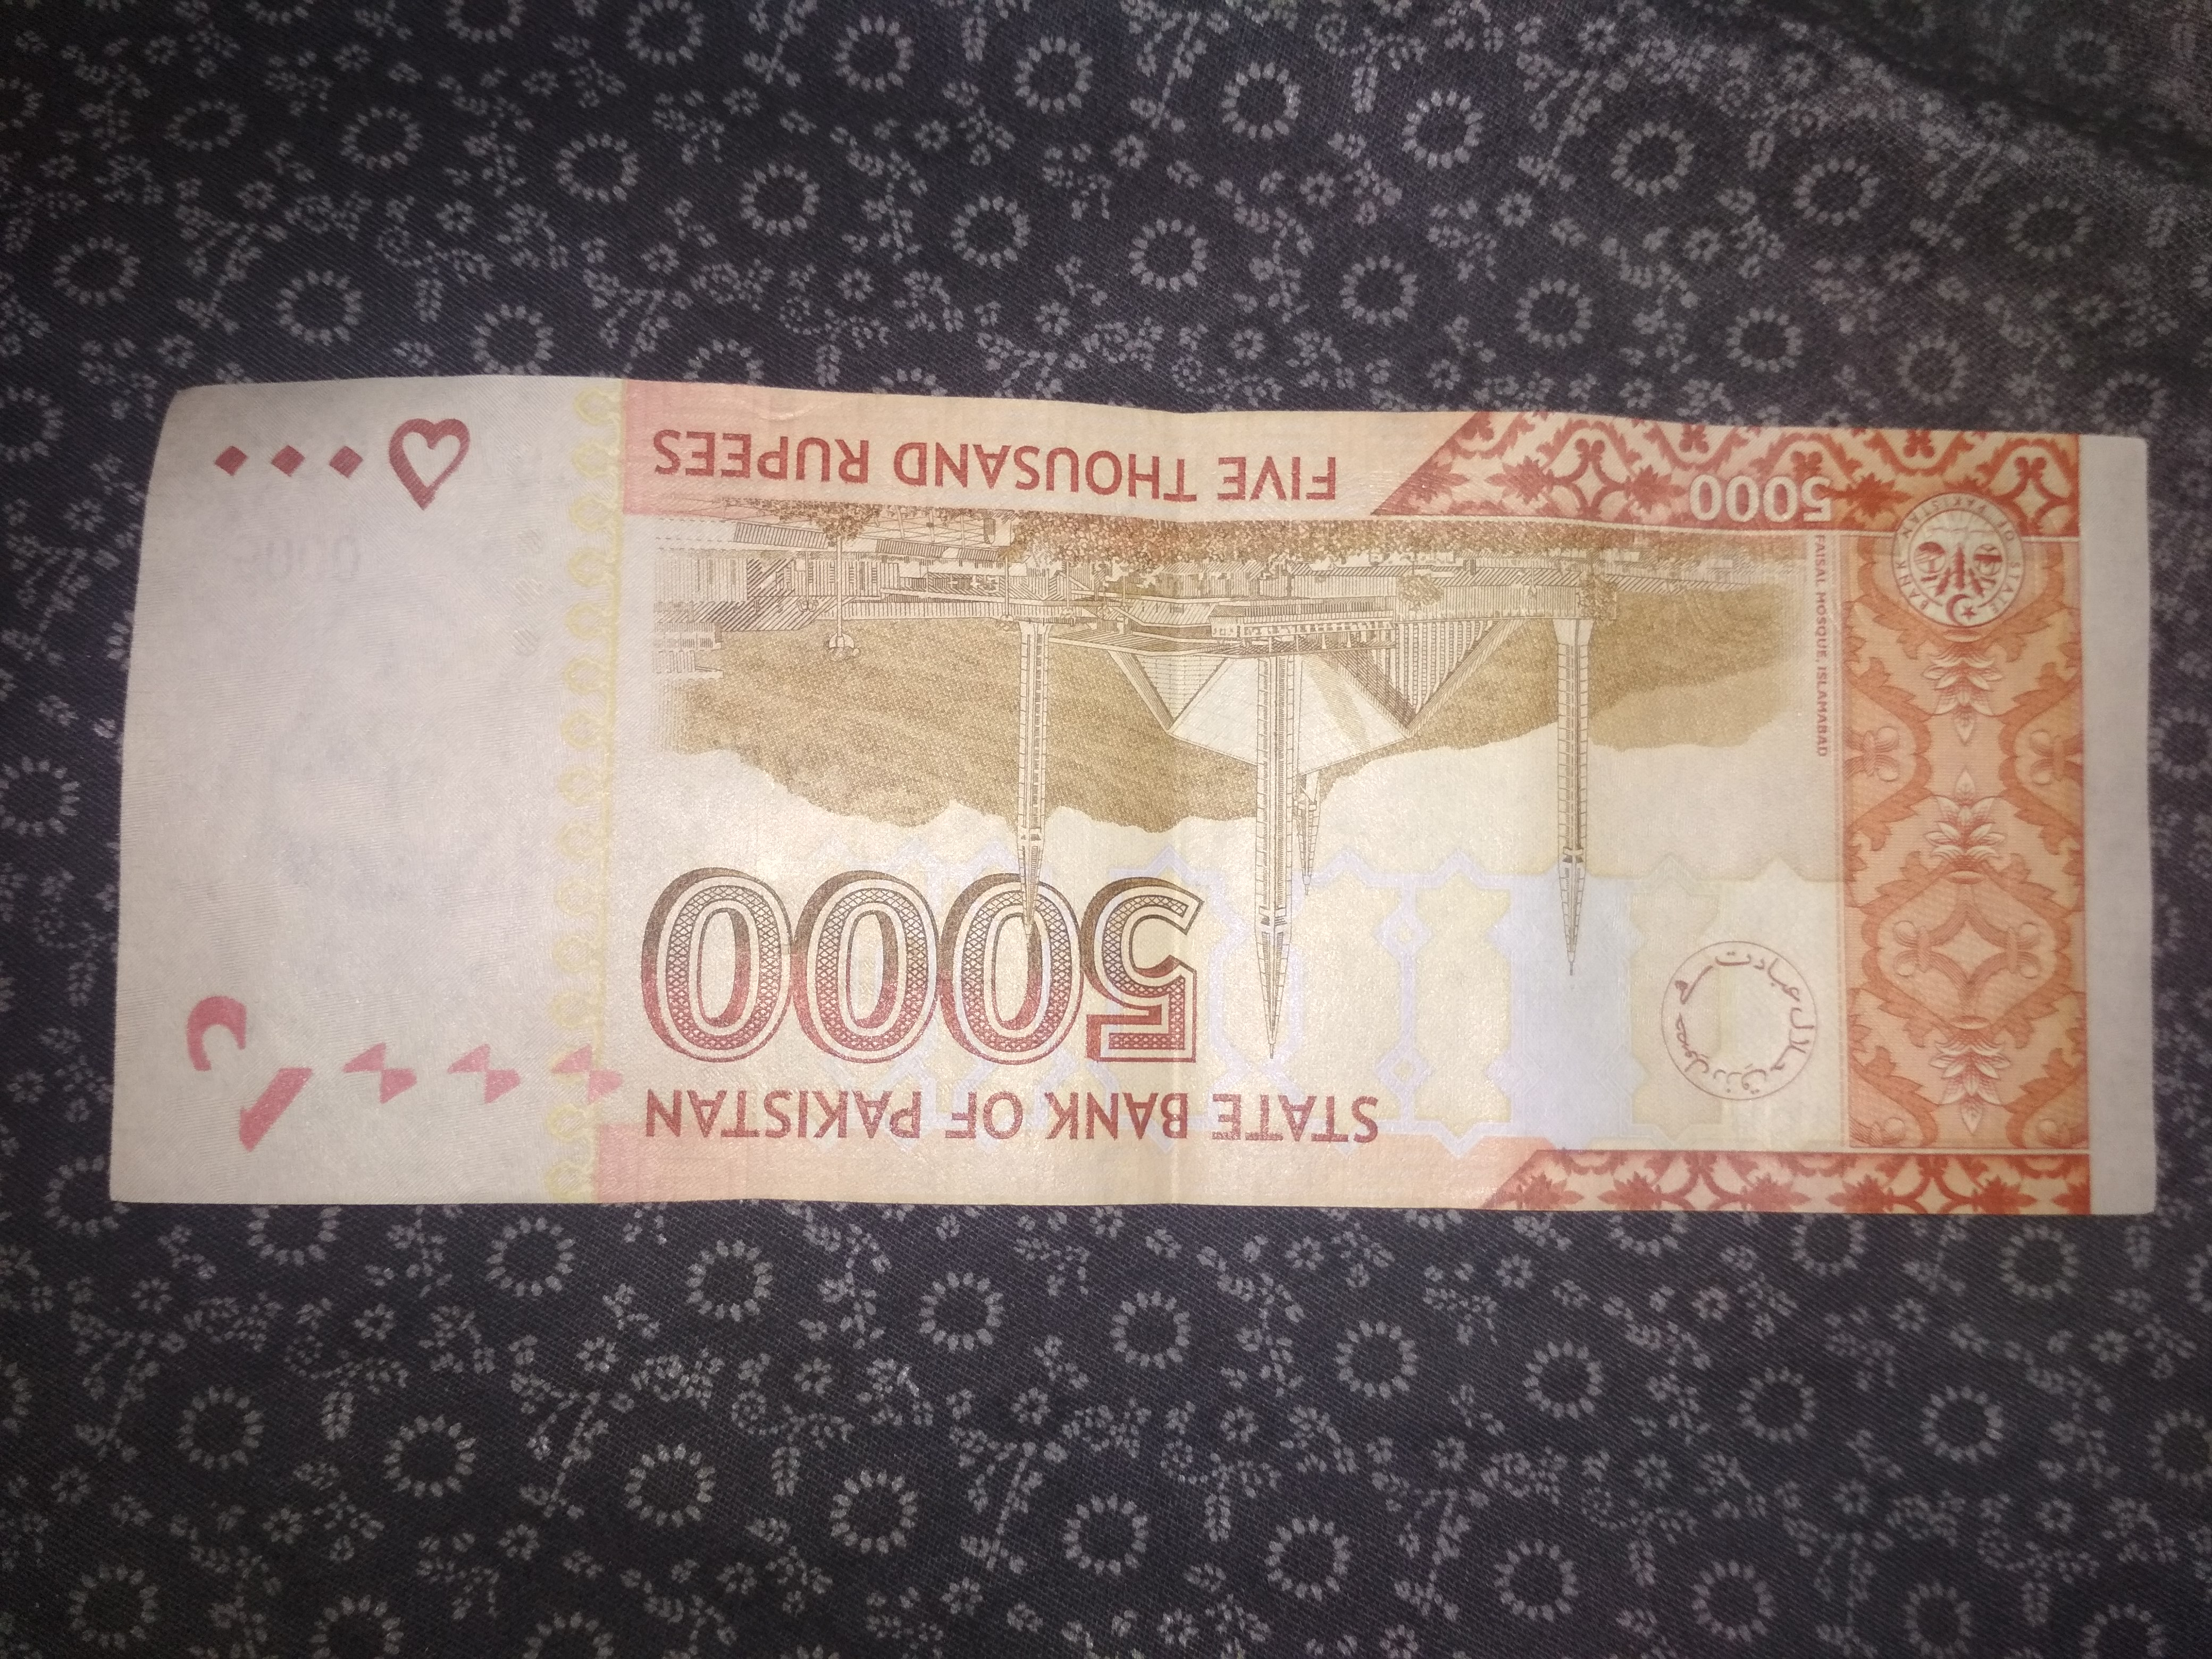5000 rupee: (122, 336, 2158, 1267)
